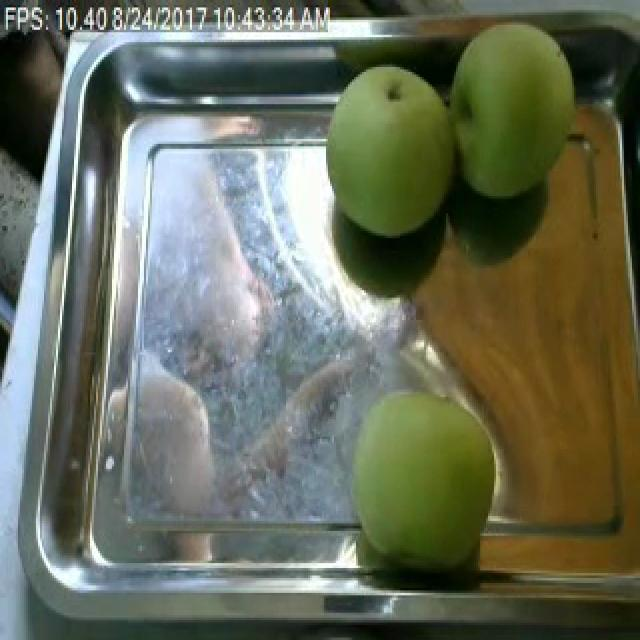50-_ripeness: (347, 361, 523, 589), (322, 65, 458, 263), (449, 22, 589, 195)
